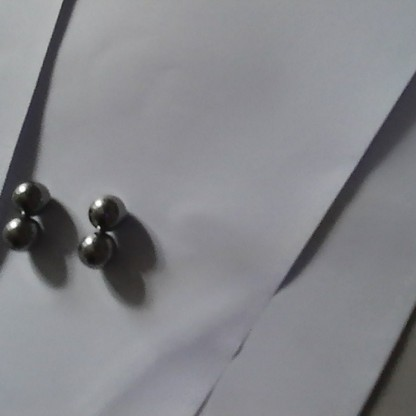ironball: (11, 180, 47, 213), (88, 194, 124, 227), (78, 234, 114, 265), (2, 219, 39, 248)
